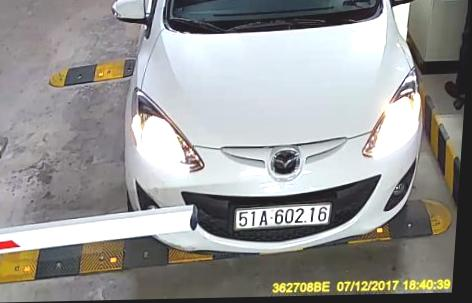License_Plate: (228, 198, 338, 232)
